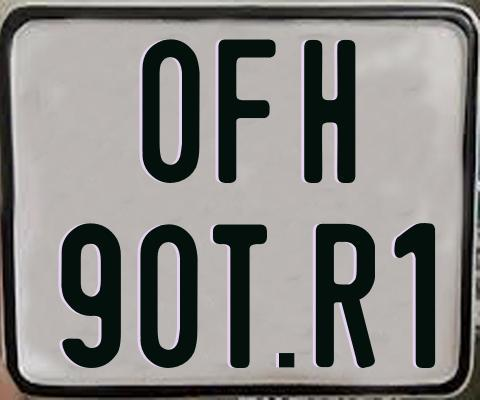0: (137, 222, 198, 371), (139, 37, 199, 186)
1: (393, 222, 434, 373)
9: (58, 223, 121, 369)
F: (217, 37, 281, 182)
H: (302, 39, 358, 184)
R: (314, 224, 375, 369)
T: (211, 222, 269, 368)
